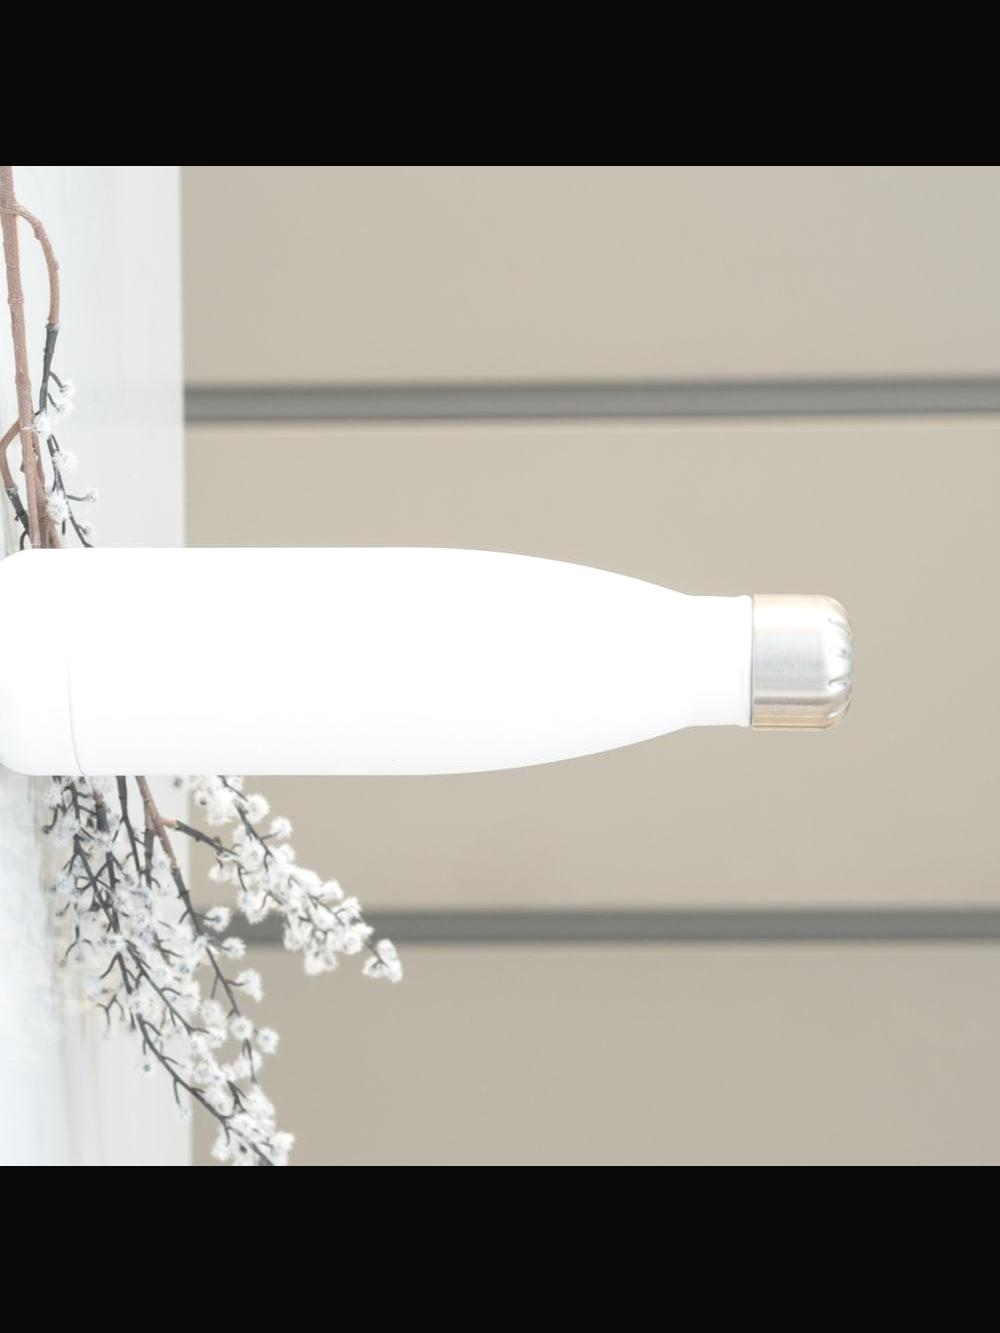bottle: (0, 515, 875, 805)
